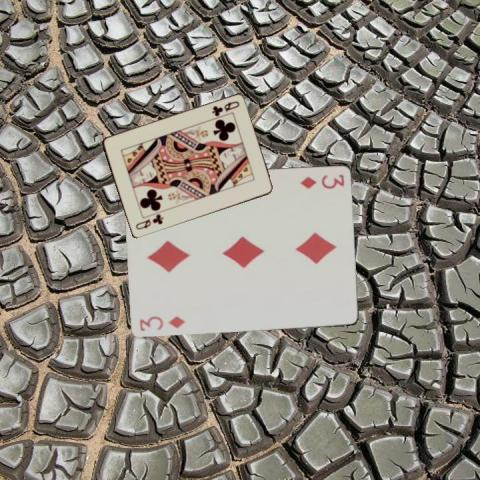3d: (136, 313, 186, 333), (298, 171, 346, 191)
Qc: (208, 98, 241, 118), (132, 212, 164, 231)
